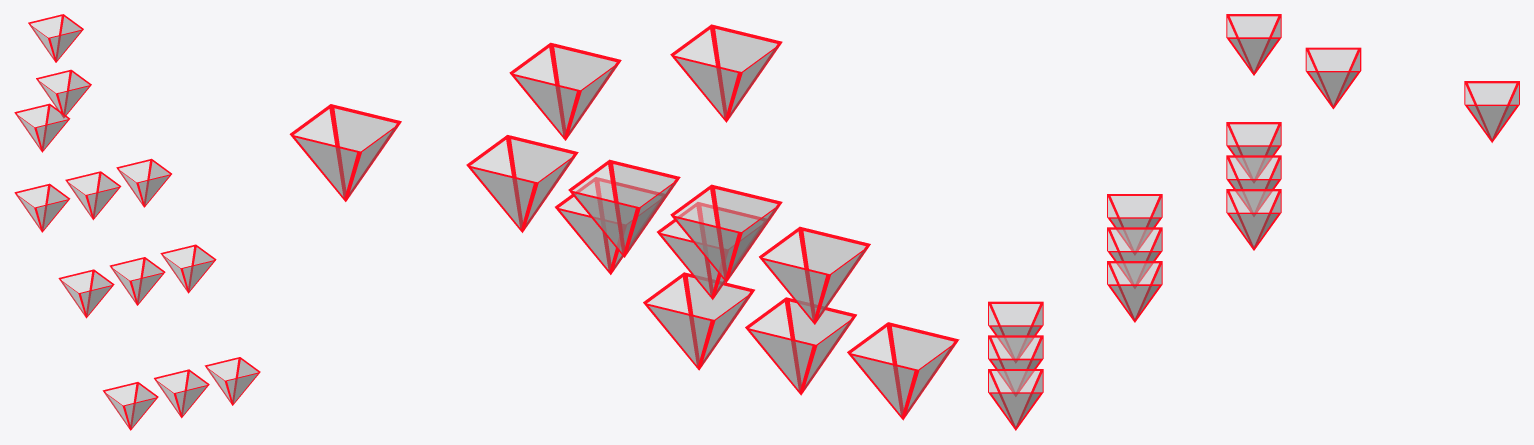
The model's file is (2)M GSpike.fbx.
3 views of the same model, side by side, from view 1: azimuth 30°, elevation 25°; view 2: azimuth 150°, elevation 25°; view 3: azimuth 270°, elevation 25° (orthographic). The views are drawn at different scales.
Parts seen in each view (by area): view 1: UdDownSpike.002, UdDownSpike.004, UdDownSpike.006, UdDownSpike.008, UdDownSpike.012, UdDownSpike.003, UdDownSpike.007, UdDownSpike.001, UdDownSpike.011, UdDownSpike.005, UdDownSpike.009, UdDownSpike.010; view 2: UdDownSpike.011, UdDownSpike.012, UdDownSpike.007, UdDownSpike.008, UdDownSpike.010, UdDownSpike.001, UdDownSpike.004, UdDownSpike.009, UdDownSpike.002, UdDownSpike.003, UdDownSpike.006, UdDownSpike.005; view 3: UdDownSpike.010, UdDownSpike.011, UdDownSpike.009, UdDownSpike.012, UdDownSpike.006, UdDownSpike.003, UdDownSpike.001, UdDownSpike.008, UdDownSpike.005, UdDownSpike.002, UdDownSpike.007, UdDownSpike.004.
Boxes of the visible parts, x1,y1,x2,y2 form: UdDownSpike.002: (154, 369, 209, 418); UdDownSpike.004: (58, 269, 114, 318); UdDownSpike.006: (160, 244, 216, 293); UdDownSpike.008: (65, 171, 121, 220); UdDownSpike.012: (14, 103, 70, 152); UdDownSpike.003: (204, 357, 260, 405); UdDownSpike.007: (14, 183, 70, 232); UdDownSpike.001: (102, 382, 158, 430); UdDownSpike.011: (28, 14, 83, 62); UdDownSpike.005: (109, 257, 165, 305); UdDownSpike.009: (116, 158, 171, 207); UdDownSpike.010: (36, 69, 91, 118); UdDownSpike.011: (289, 104, 401, 201); UdDownSpike.012: (670, 24, 782, 122); UdDownSpike.007: (670, 184, 782, 282); UdDownSpike.008: (568, 159, 680, 257); UdDownSpike.010: (509, 42, 621, 140); UdDownSpike.001: (847, 322, 959, 420); UdDownSpike.004: (759, 226, 870, 324); UdDownSpike.009: (466, 135, 578, 232); UdDownSpike.002: (745, 297, 856, 395); UdDownSpike.003: (643, 272, 754, 370); UdDownSpike.006: (555, 177, 664, 274); UdDownSpike.005: (657, 202, 766, 299); UdDownSpike.010: (1305, 47, 1361, 109); UdDownSpike.011: (1464, 81, 1519, 142); UdDownSpike.009: (1226, 189, 1281, 250); UdDownSpike.012: (1226, 14, 1281, 75); UdDownSpike.006: (1107, 261, 1162, 322); UdDownSpike.003: (988, 369, 1043, 430); UdDownSpike.001: (988, 301, 1043, 362); UdDownSpike.008: (1226, 155, 1281, 216); UdDownSpike.005: (1107, 227, 1162, 288); UdDownSpike.002: (988, 335, 1043, 396); UdDownSpike.007: (1226, 122, 1281, 182); UdDownSpike.004: (1107, 194, 1162, 254).
Bounding box in the file's own units: 540 × 940 × 1340.
